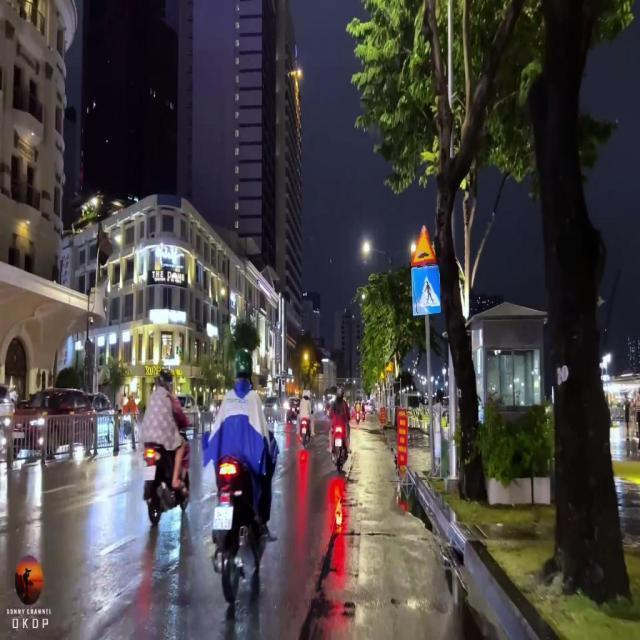221-duong-go-ghe: (409, 226, 436, 266)
224-duong-nguoi-di-bo-cat-ngang: (411, 266, 441, 316)
